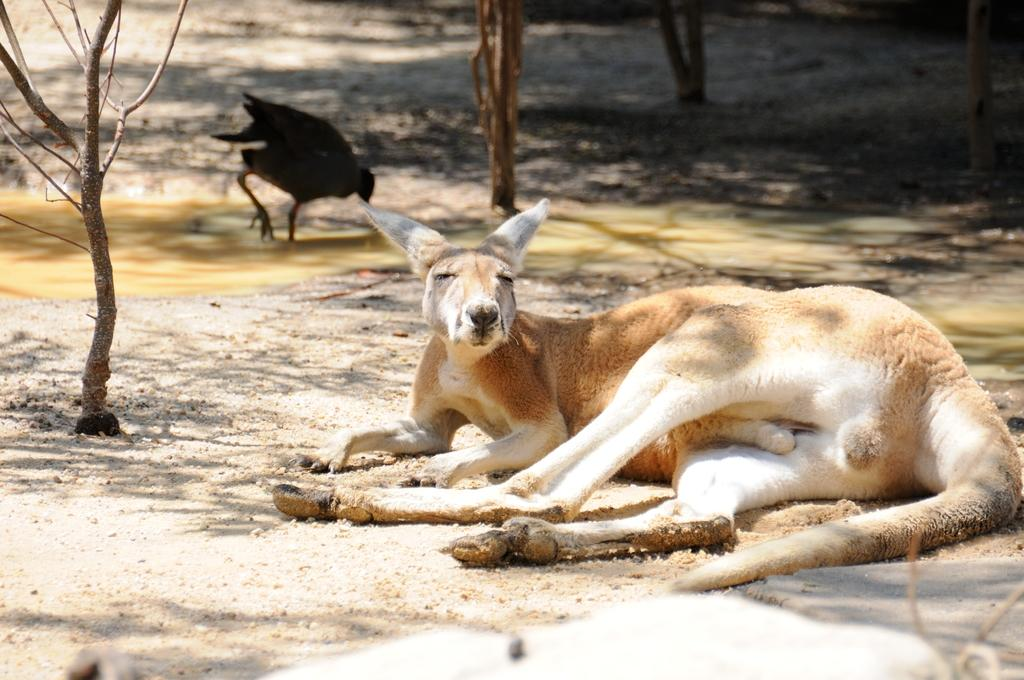kangaroo: (268, 194, 1021, 591)
